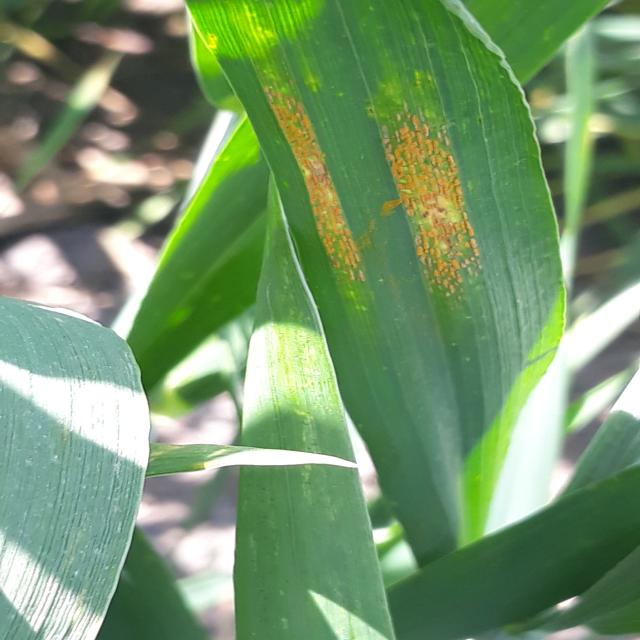yellow_rust: (197, 0, 596, 403)
